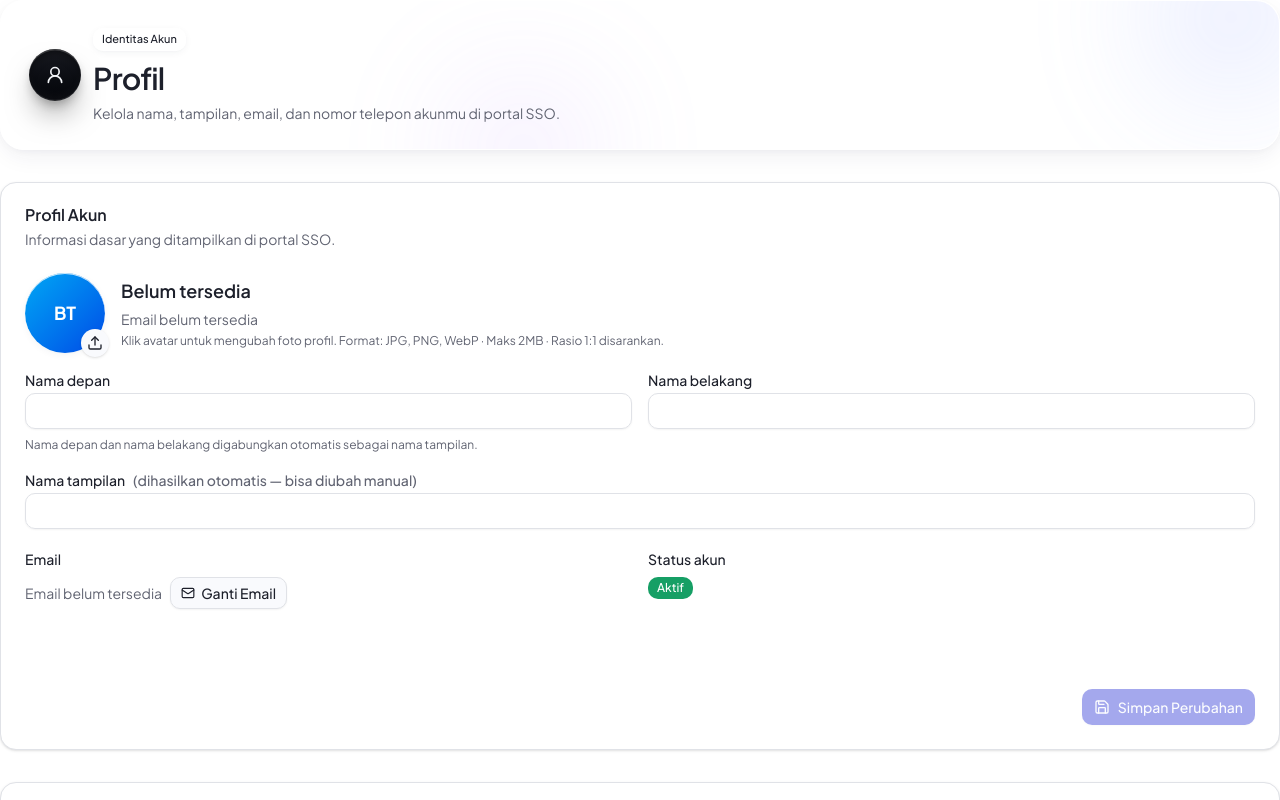
ProfilePage minimization contract › uses the central safe error presenter instead of raw thrown messages
The width and height of the screenshot is (1280, 800).
In the field labelled "Nama tampilan (dihasilkan otomatis — bisa diubah manual)": (640, 511) [25, 493, 1255, 529], type "Updated User"
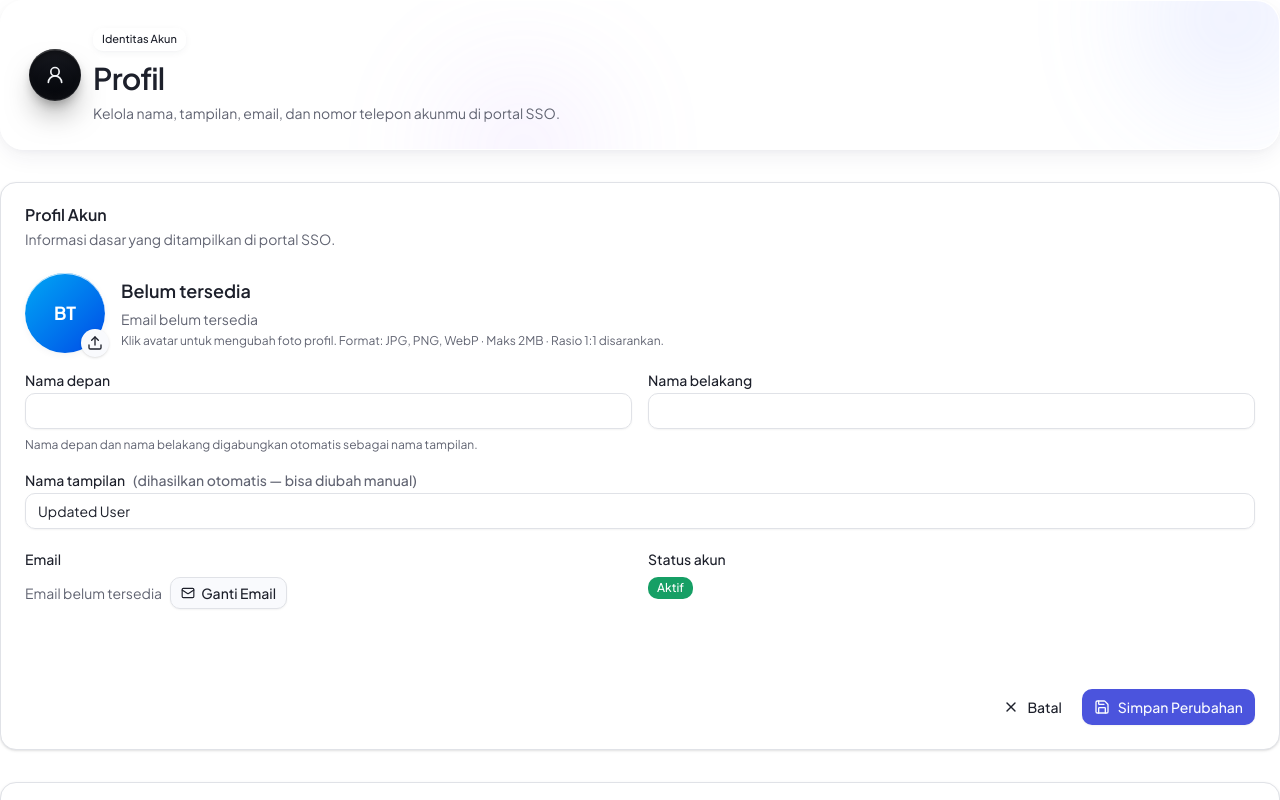
Submit the form, box [25, 273, 1255, 725]
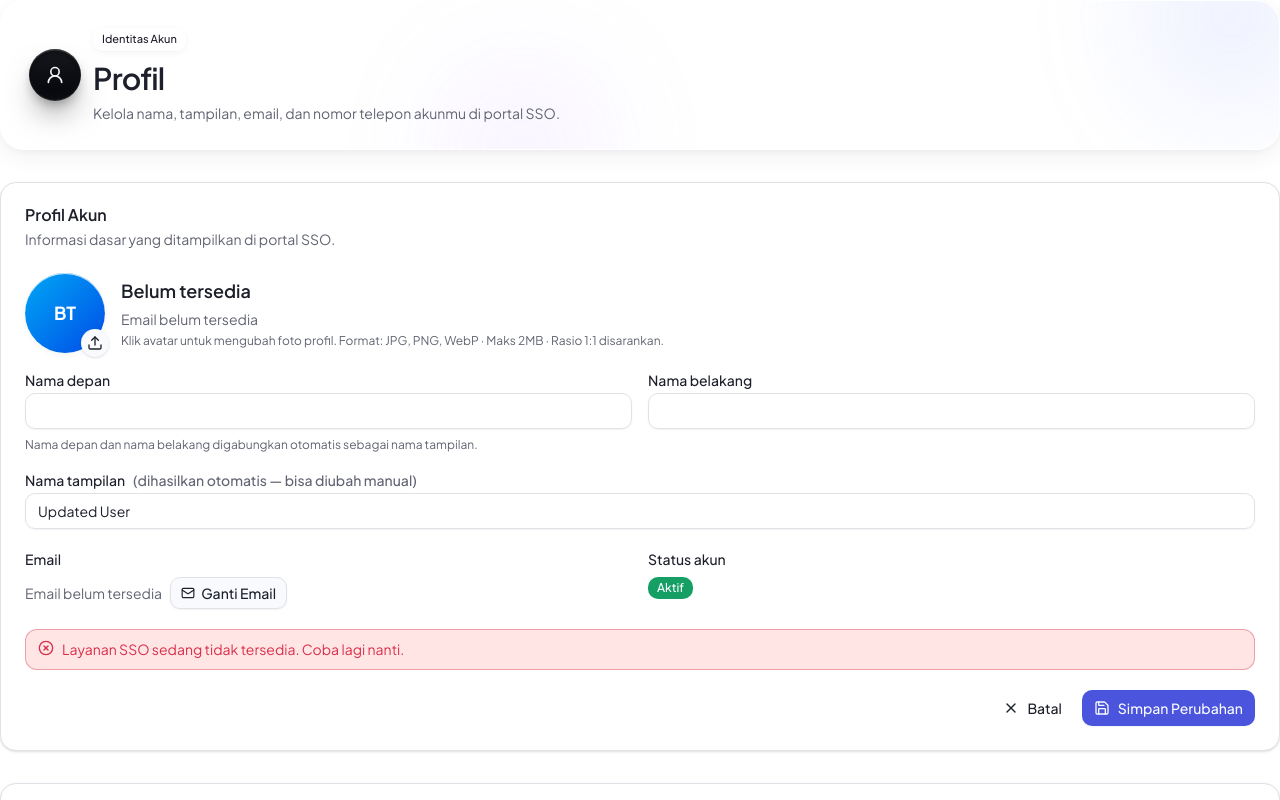
Result: the text "Layanan SSO sedang tidak tersedia. Coba lagi nanti." is shown at [62, 638, 404, 661]
